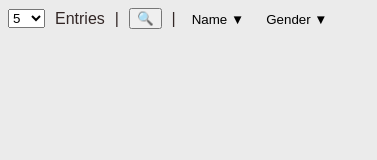
Filters Component › opens text input when clicking on text filter
Step 1. Click the button "Name ▼" → (218, 19), box [186,10,250,28]
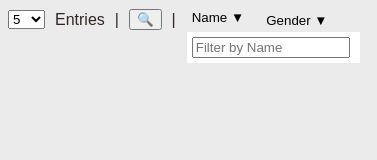
expect the field with placeholder "Filter by Name" is shown: met, box [192,37,350,58]
